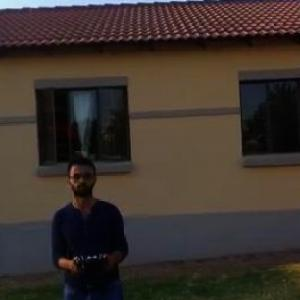follow: (46, 152, 134, 299)
